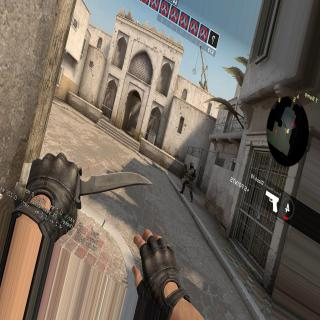CT-Body: (181, 160, 195, 199)
CT-Head: (189, 162, 194, 168)
